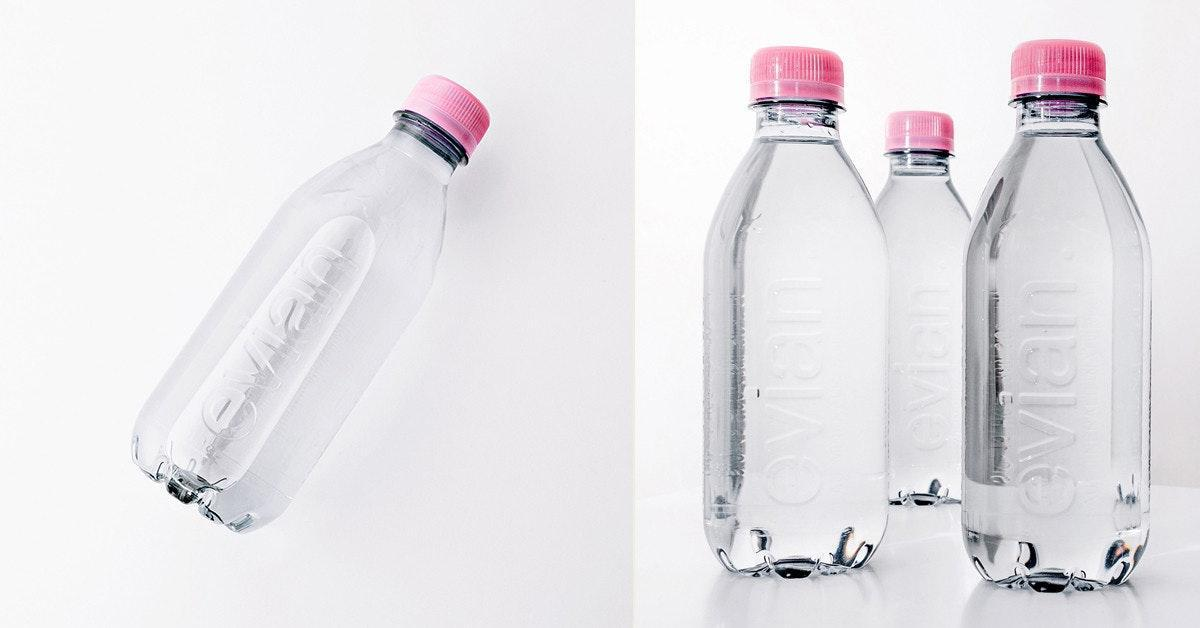bottle: (130, 66, 493, 536), (949, 0, 1158, 596), (695, 39, 899, 585), (877, 106, 976, 509)
